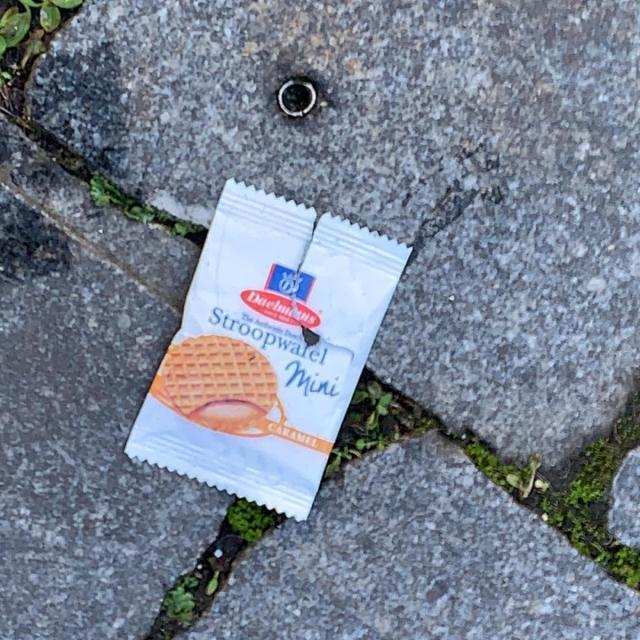Plastic: (121, 175, 417, 526)
